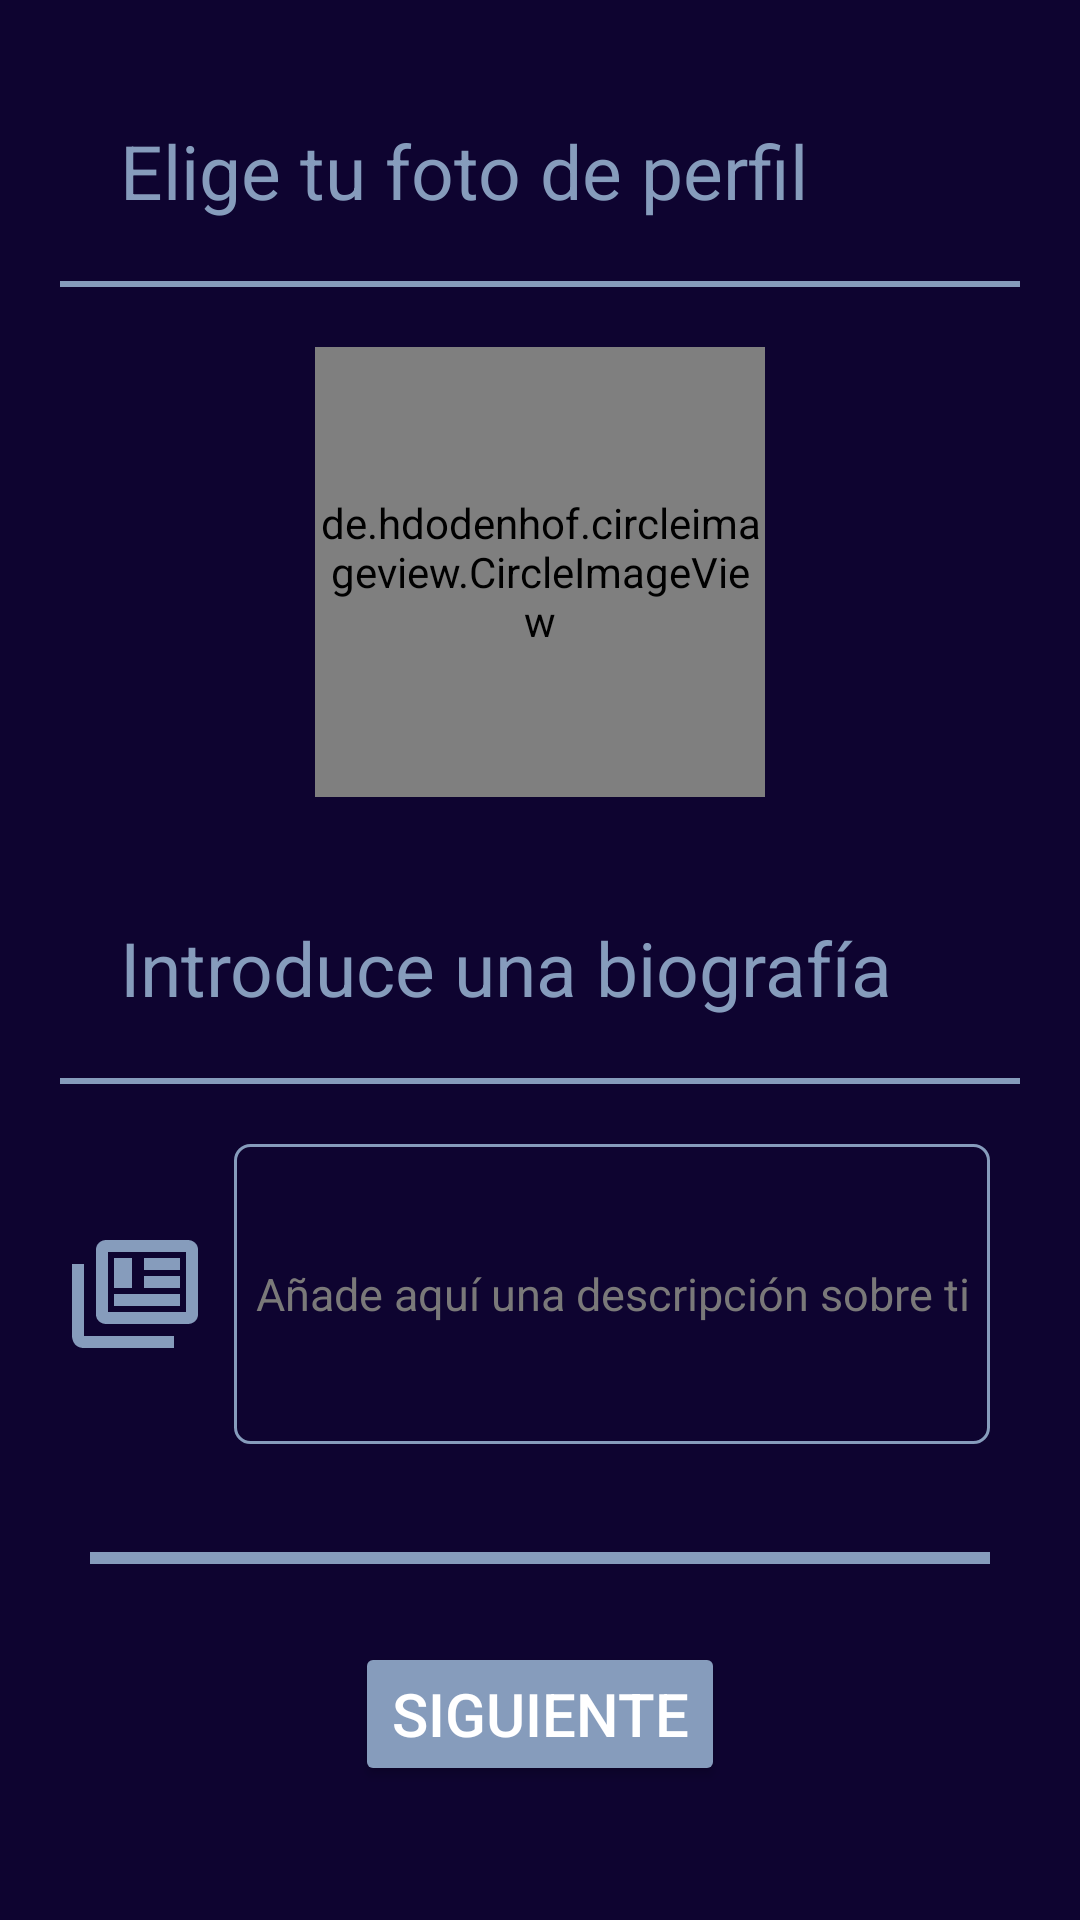

Icon bounding boxes for this 1080 × 1920 phone screenshot, format (x1, y1, x2, y2):
vectorbiografia: (72, 1240, 198, 1348)
